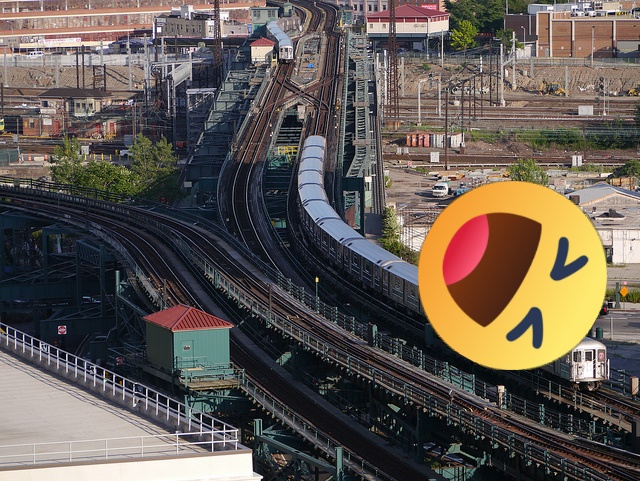haha: (418, 181, 607, 370)
